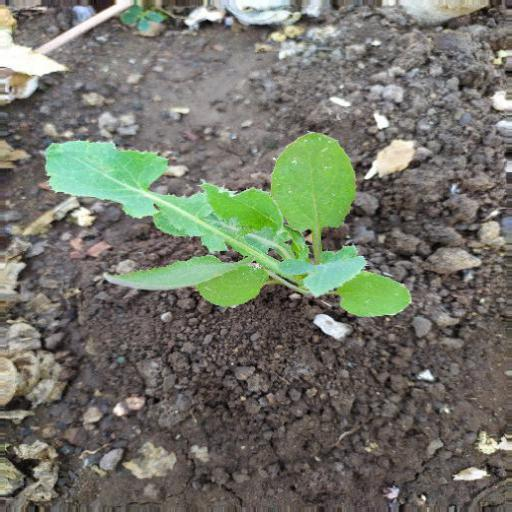weed: (44, 113, 418, 367)
